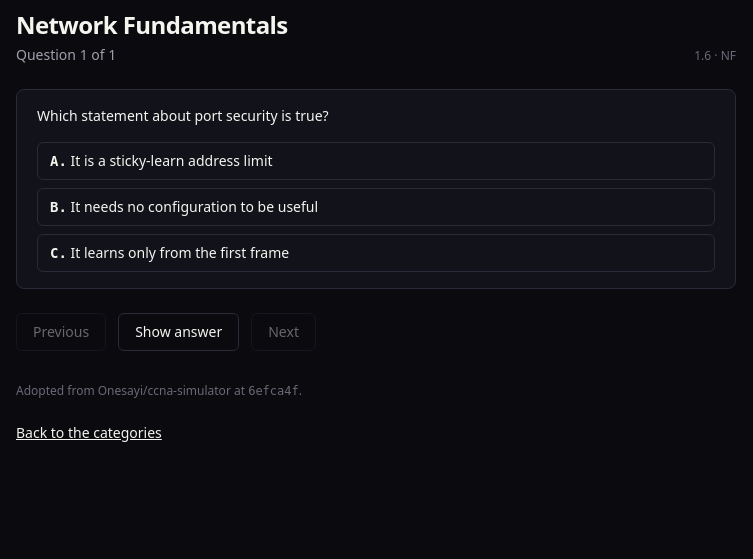
Test: LearnMode reveal, with a synthetic bank › renders the real rationale under the wrong option
The image size is (753, 559).
Click the button "Show answer".
click(179, 332)  # box x1=118 y1=313 x2=239 y2=351
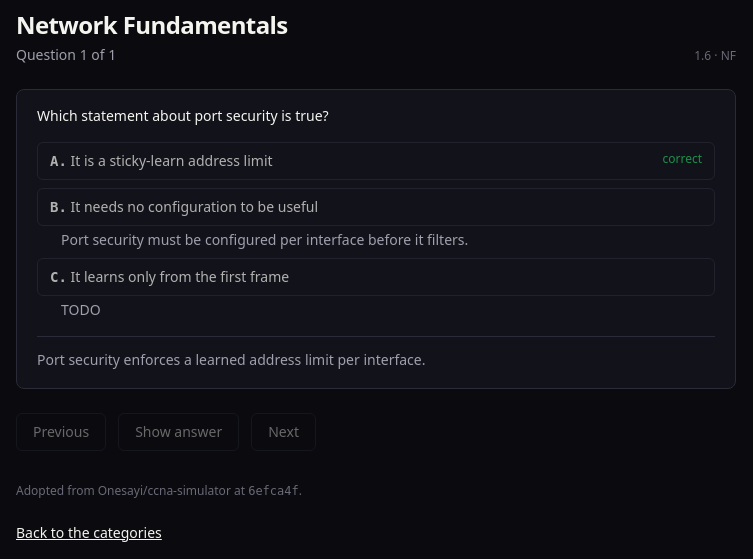
Expected: the text "Port security must be configured per interface before it filters." is shown, x1=61 y1=230 x2=468 y2=249
